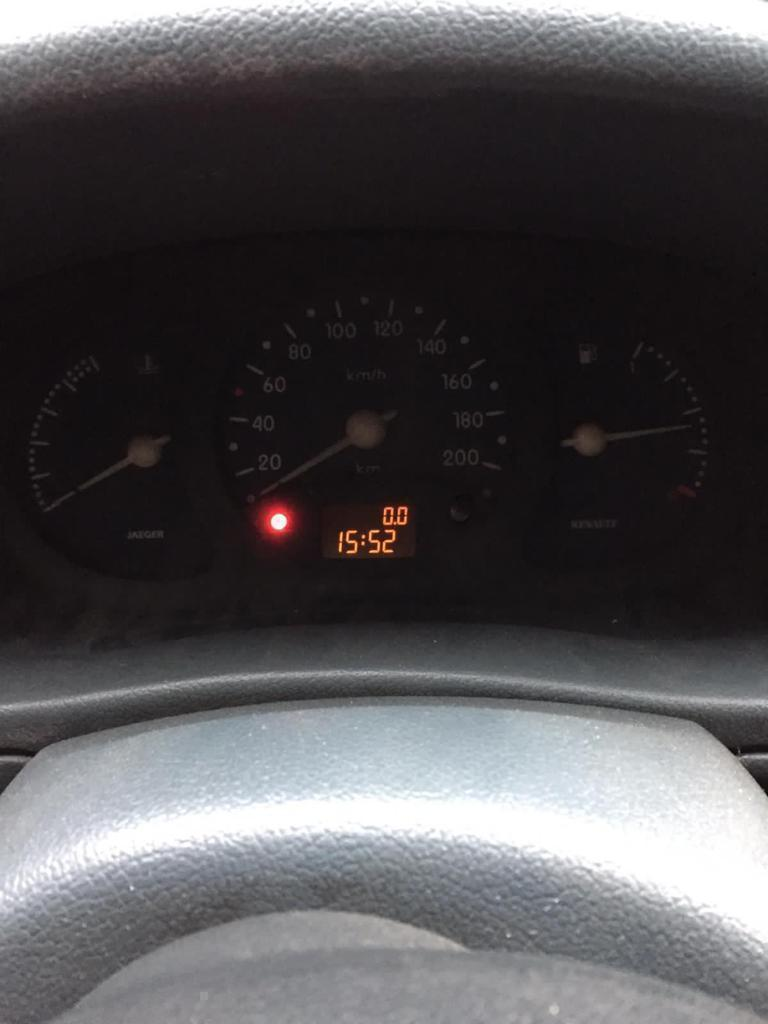,: (393, 521, 397, 526)
0: (381, 505, 393, 526), (396, 505, 408, 525)
1: (335, 528, 343, 554)
2: (381, 528, 396, 554)
5: (344, 528, 359, 554), (366, 528, 380, 554)
X: (359, 533, 366, 547)
odometer: (315, 499, 420, 562)
